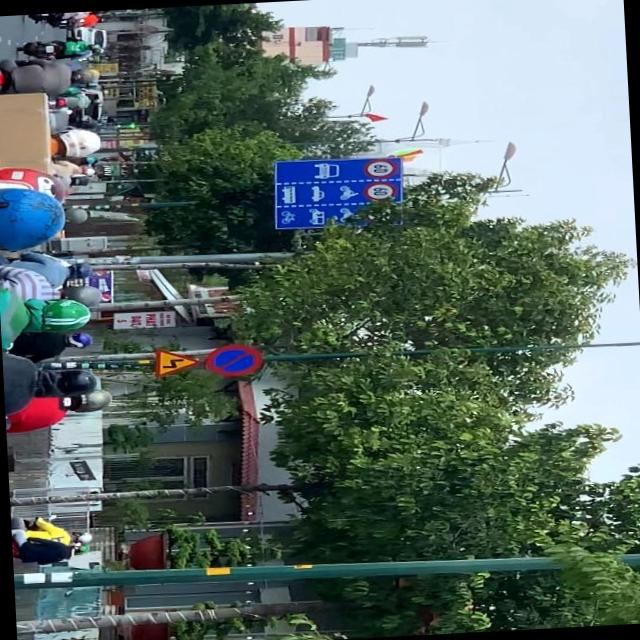P-131a: (204, 342, 262, 378)
W-202a: (152, 346, 205, 378)
